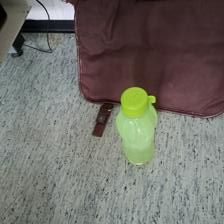bottle: (114, 83, 162, 167)
